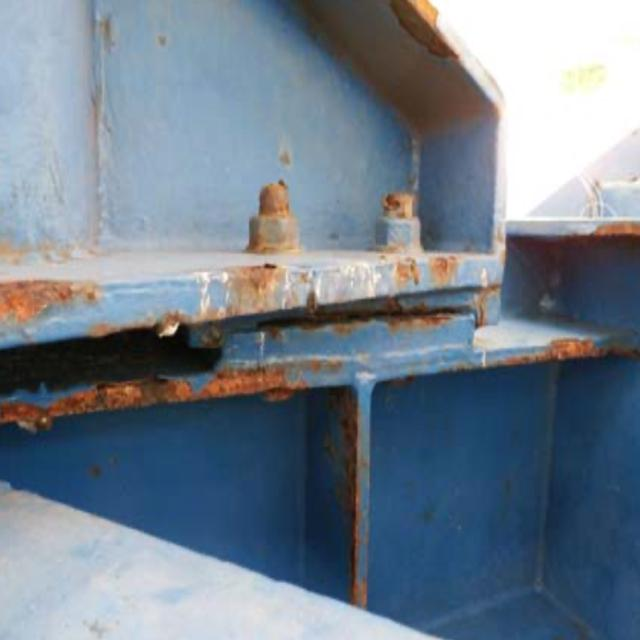corrosion: (6, 161, 608, 613)
